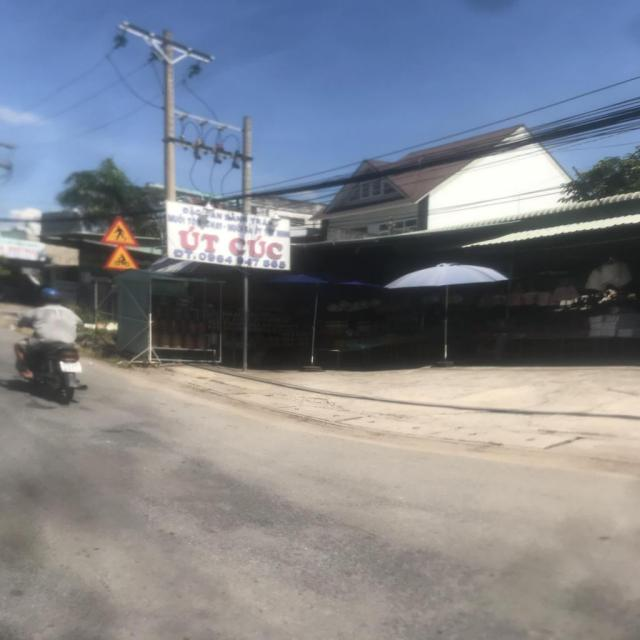chu_y_nguoi_di_bo_cat_ngang: (99, 213, 142, 248)
chu_y_nguoi_di_xe_dap_cat_ngang: (102, 242, 140, 272)
